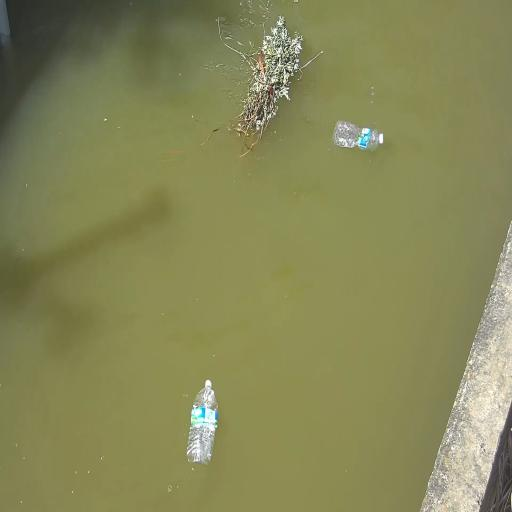plastic: (187, 380, 217, 464), (333, 121, 383, 150)
twig: (200, 16, 323, 158)
